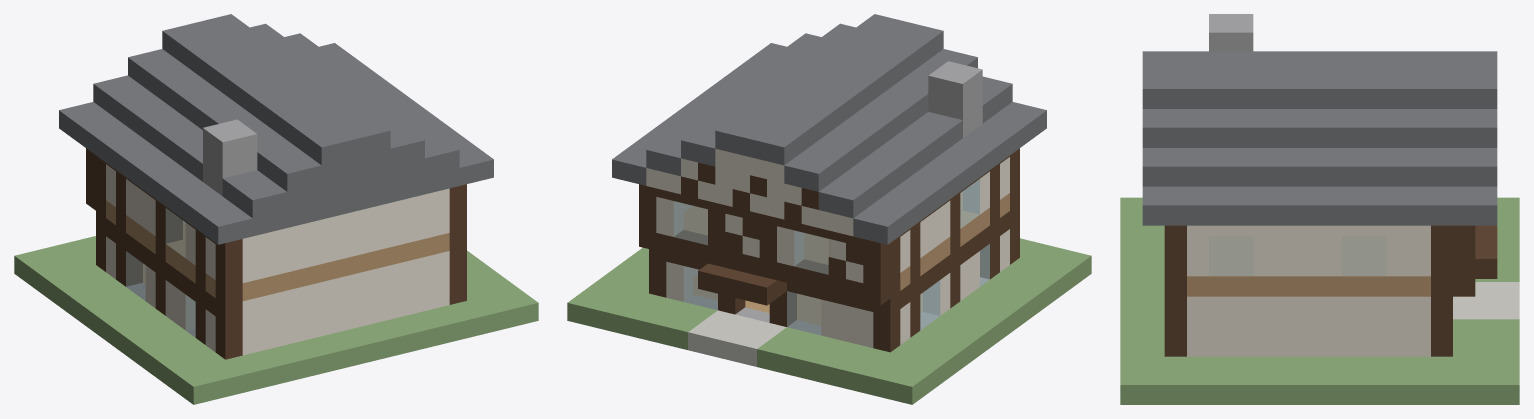
File: street_house.glb
3 views of the same model, side by side, from view 1: azimuth 30°, elevation 25°; view 2: azimuth 150°, elevation 25°; view 3: azimuth 270°, elevation 25° (orthographic). The views are drawn at different scales.
Parts seen in each view (by area): view 1: street_house_part_122, street_house_part_116, street_house_part_035, street_house_part_005, street_house_part_082, street_house_part_010, street_house_part_106, street_house_part_115, street_house_part_107, street_house_part_098, street_house_part_108, street_house_part_003 (+20 smaller); view 2: street_house_part_122, street_house_part_005, street_house_part_116, street_house_part_106, street_house_part_002, street_house_part_115, street_house_part_000, street_house_part_047, street_house_part_098, street_house_part_108, street_house_part_001, street_house_part_117 (+50 smaller); view 3: street_house_part_122, street_house_part_003, street_house_part_019, street_house_part_098, street_house_part_108, street_house_part_116, street_house_part_010, street_house_part_049, street_house_part_000, street_house_part_073, street_house_part_034, street_house_part_011 (+15 smaller).
Part boxes in pixels (left/top/right/bottom): street_house_part_122: left=162, top=14, right=390, bottom=165; street_house_part_116: left=137, top=31, right=424, bottom=209; street_house_part_035: left=242, top=251, right=449, bottom=355; street_house_part_005: left=44, top=265, right=245, bottom=404; street_house_part_082: left=242, top=188, right=449, bottom=282; street_house_part_010: left=226, top=301, right=486, bottom=392; street_house_part_106: left=59, top=102, right=252, bottom=244; street_house_part_115: left=93, top=75, right=202, bottom=181; street_house_part_107: left=252, top=168, right=459, bottom=236; street_house_part_098: left=319, top=43, right=493, bottom=185; street_house_part_108: left=284, top=33, right=459, bottom=176; street_house_part_003: left=467, top=250, right=538, bottom=333; street_house_part_122: left=715, top=14, right=943, bottom=165; street_house_part_005: left=891, top=243, right=1091, bottom=382; street_house_part_116: left=691, top=23, right=977, bottom=184; street_house_part_106: left=853, top=102, right=1046, bottom=244; street_house_part_002: left=757, top=327, right=942, bottom=404; street_house_part_115: left=818, top=112, right=962, bottom=218; street_house_part_000: left=567, top=281, right=717, bottom=349; street_house_part_047: left=639, top=228, right=890, bottom=305; street_house_part_098: left=612, top=43, right=786, bottom=185; street_house_part_108: left=646, top=33, right=821, bottom=176; street_house_part_001: left=688, top=310, right=786, bottom=366; street_house_part_117: left=928, top=61, right=982, bottom=137; street_house_part_122: left=1142, top=51, right=1497, bottom=108; street_house_part_003: left=1120, top=356, right=1452, bottom=404; street_house_part_019: left=1187, top=296, right=1430, bottom=356; street_house_part_098: left=1142, top=186, right=1497, bottom=225; street_house_part_108: left=1142, top=148, right=1497, bottom=186; street_house_part_116: left=1142, top=109, right=1475, bottom=147; street_house_part_010: left=1120, top=225, right=1164, bottom=356; street_house_part_049: left=1187, top=267, right=1430, bottom=296; street_house_part_000: left=1453, top=319, right=1519, bottom=404; street_house_part_073: left=1253, top=225, right=1342, bottom=276; street_house_part_034: left=1164, top=225, right=1186, bottom=356; street_house_part_011: left=1431, top=225, right=1452, bottom=356.
Size of the model in its own units: 20 by 12 by 18.
